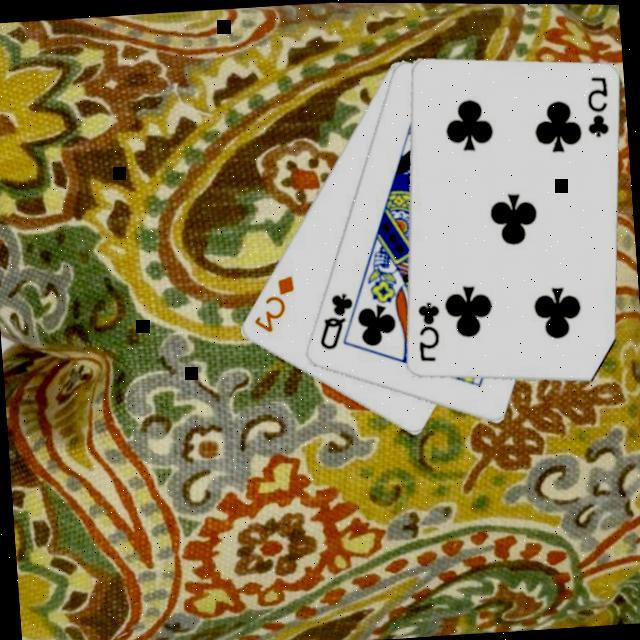3D: (244, 270, 298, 334)
5C: (579, 70, 612, 139), (410, 296, 444, 362)
QC: (311, 286, 357, 350)
